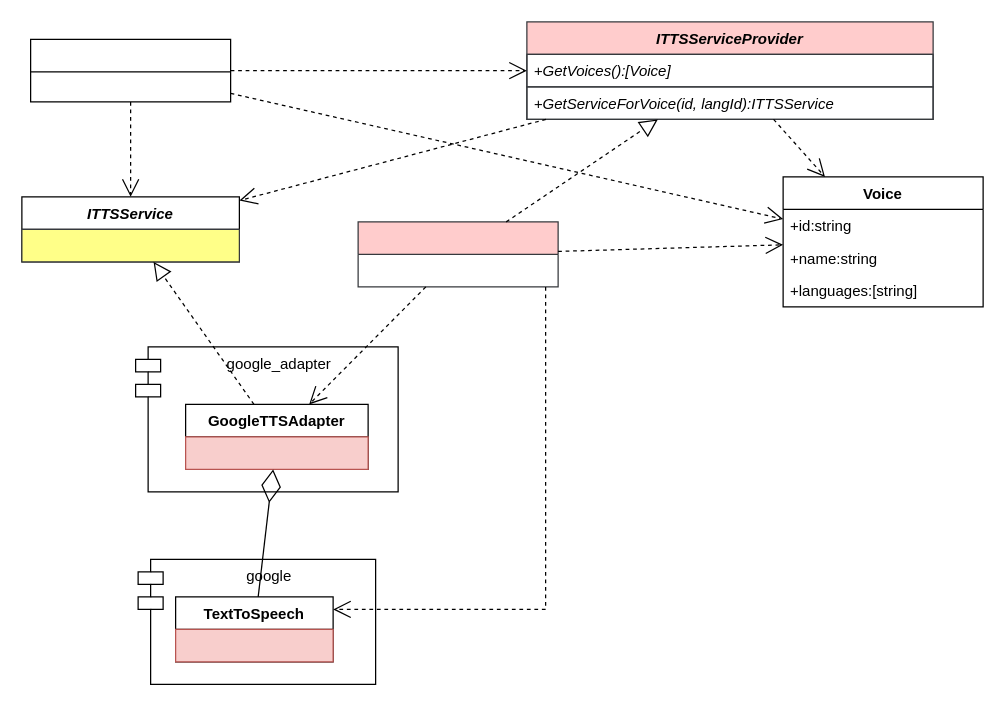
Some shapes in this 1005 by 706 pixel diagram are drawn without their labels. Here are the shapes that lost their labels. From the top down, the centre of each, then its label:
At (x=130, y=70): "Client".
At (x=130, y=245): "+TextToSpeech(text):Speech".
At (x=457, y=254): "TTSServiceProvider".
